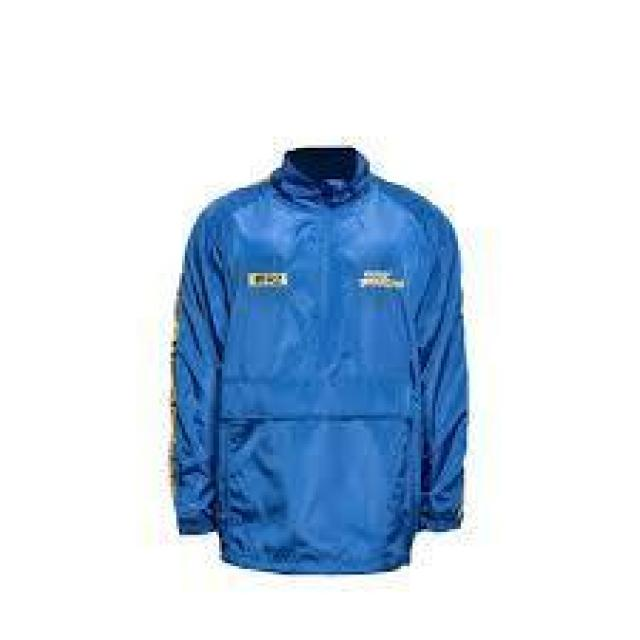sweater: (176, 147, 469, 568)
